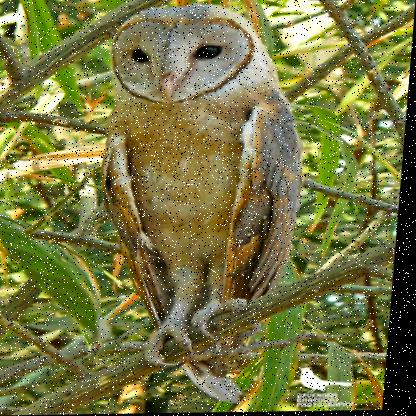Burung: (88, 6, 313, 365)
